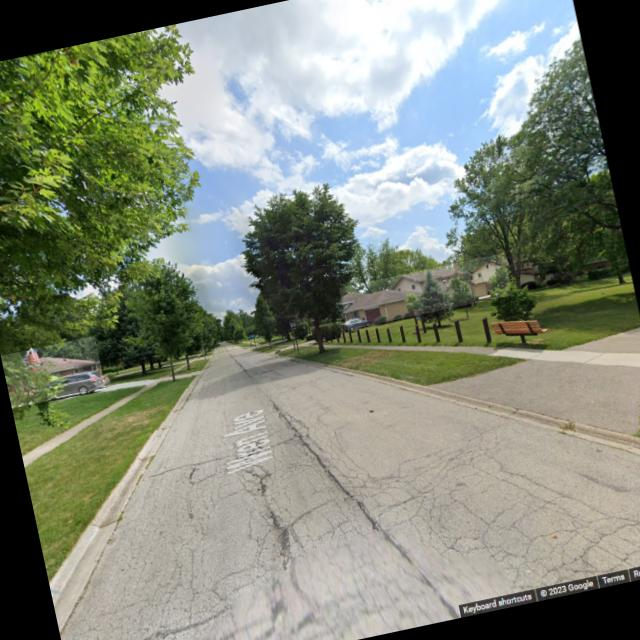House: (339, 252, 512, 330), (0, 336, 106, 408)
